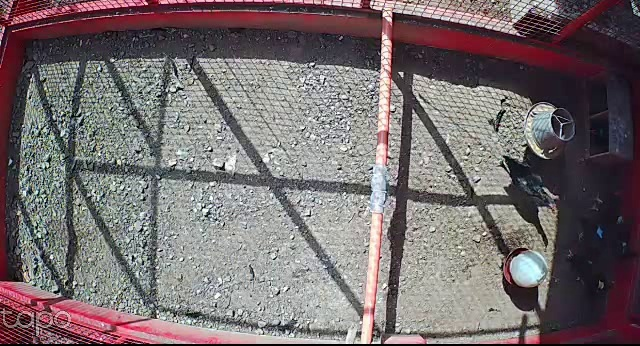Chicken: (498, 149, 559, 212), (568, 215, 614, 252)
Drinker: (501, 245, 547, 289)
Feeder: (524, 101, 575, 161)
Saddle_Color_Blue: (596, 226, 604, 238)
